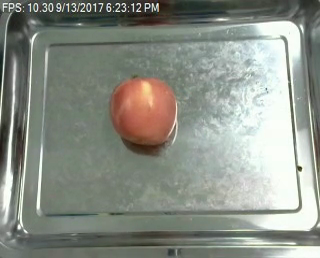Apple: (108, 72, 178, 151)
